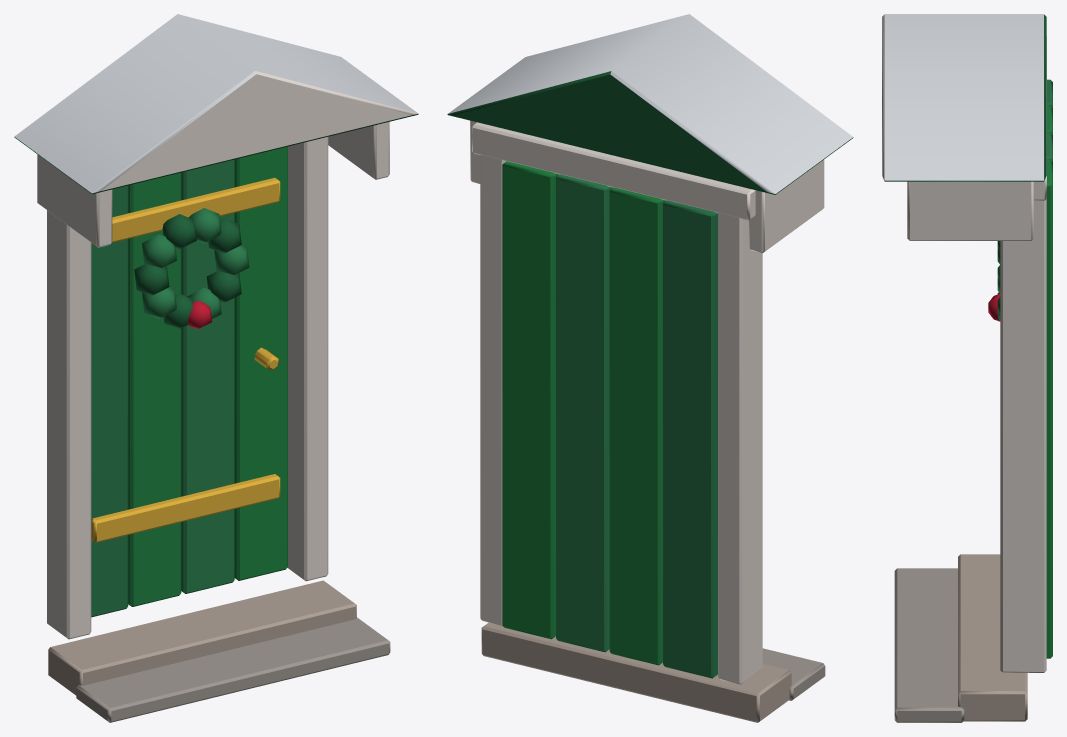
File: CandyHouse_Pink_Door.glb
The picture shows the model from 3 angles, left to right: view 1: azimuth 30°, elevation 25°; view 2: azimuth 150°, elevation 25°; view 3: azimuth 270°, elevation 25°; orthographic projection. The views are drawn at different scales.
Visible parts, largest first — view 1: CandyHouse_Pink_Door; view 2: CandyHouse_Pink_Door; view 3: CandyHouse_Pink_Door.
Part boxes in pixels (<box>): CandyHouse_Pink_Door: <box>14,14,418,722</box>; CandyHouse_Pink_Door: <box>447,14,853,722</box>; CandyHouse_Pink_Door: <box>882,14,1052,722</box>.
Bounding box in the file's own units: 6.13 × 11.16 × 2.7.
